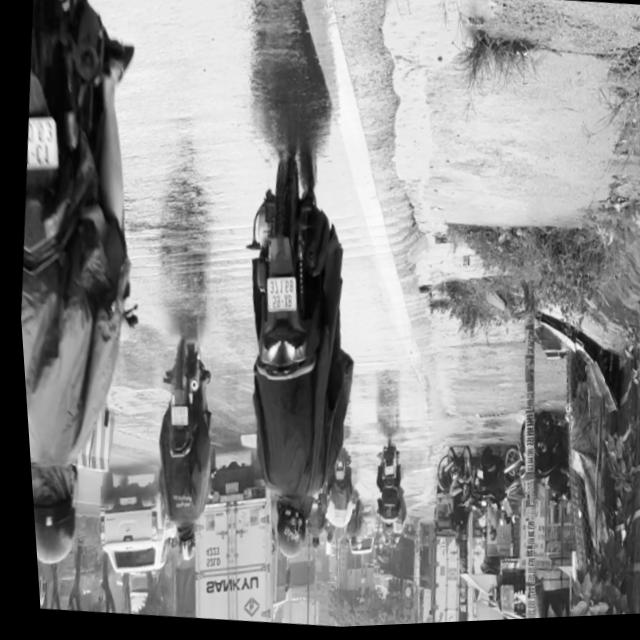helmet: (24, 465, 76, 569), (260, 500, 303, 565), (163, 527, 188, 564)
licenseplate: (0, 0, 181, 585), (200, 145, 380, 574), (128, 335, 222, 568)
nohelmet: (20, 117, 57, 174), (258, 277, 292, 316), (162, 406, 182, 427)
